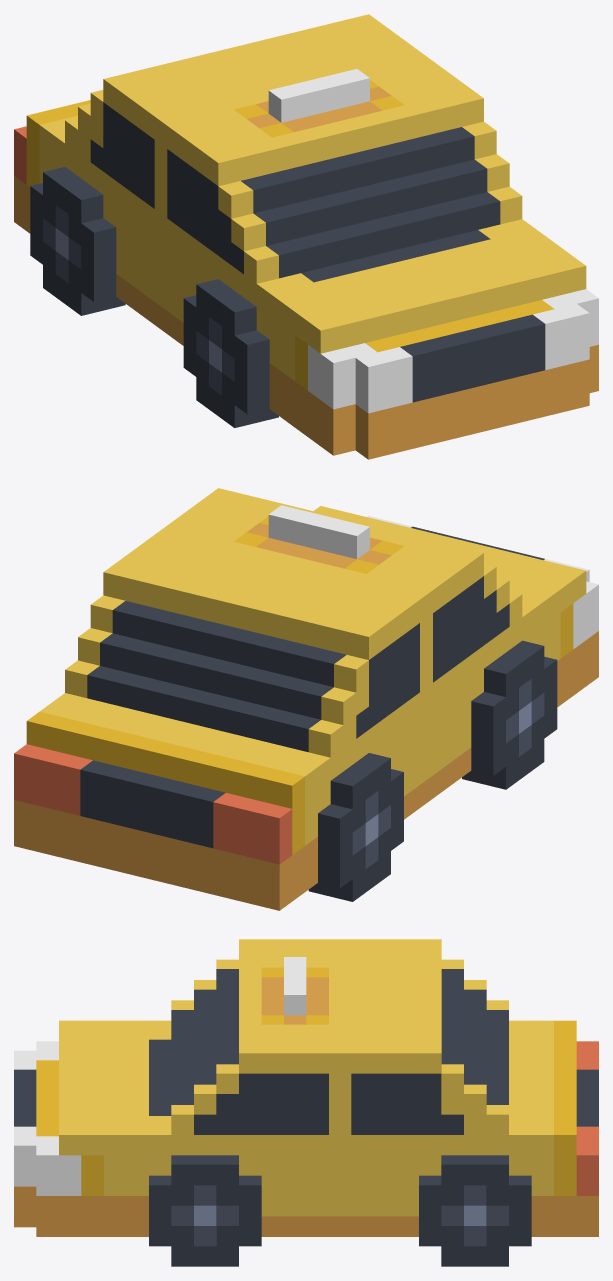
The model's file is taxi-3d-4.glb.
3 views of the same model, one above another, from view 1: azimuth 30°, elevation 25°; view 2: azimuth 150°, elevation 25°; view 3: azimuth 270°, elevation 25° (orthographic). The views are drawn at different scales.
Visible parts, largest first — view 1: entity_2; view 2: entity_2; view 3: entity_2.
Boxes of the visible parts, left/top/right/bottom form: entity_2: left=14, top=14, right=598, bottom=459; entity_2: left=14, top=488, right=598, bottom=910; entity_2: left=14, top=939, right=598, bottom=1266.
Size of the model in its own units: 1.4 by 1.1 by 2.6.
Materials: 1 (1 with a texture image).
